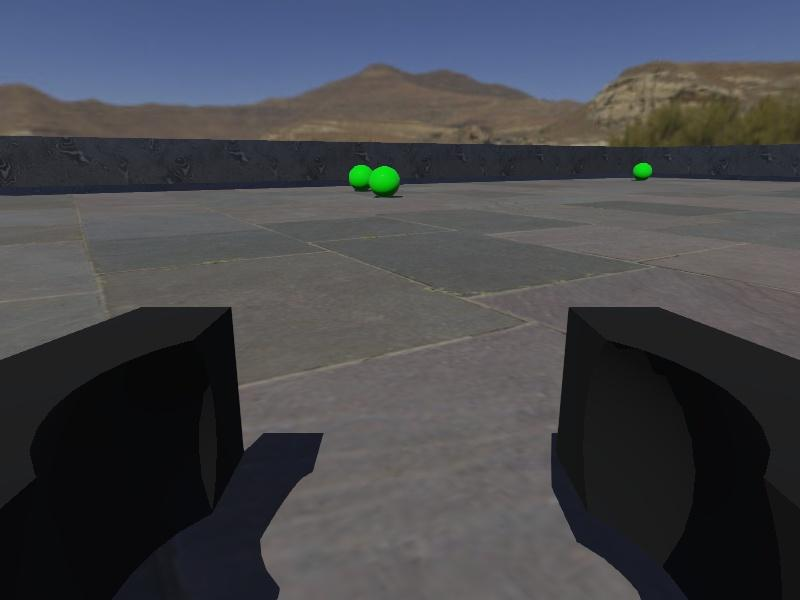green ball: (369, 165, 402, 198), (632, 162, 654, 180)
